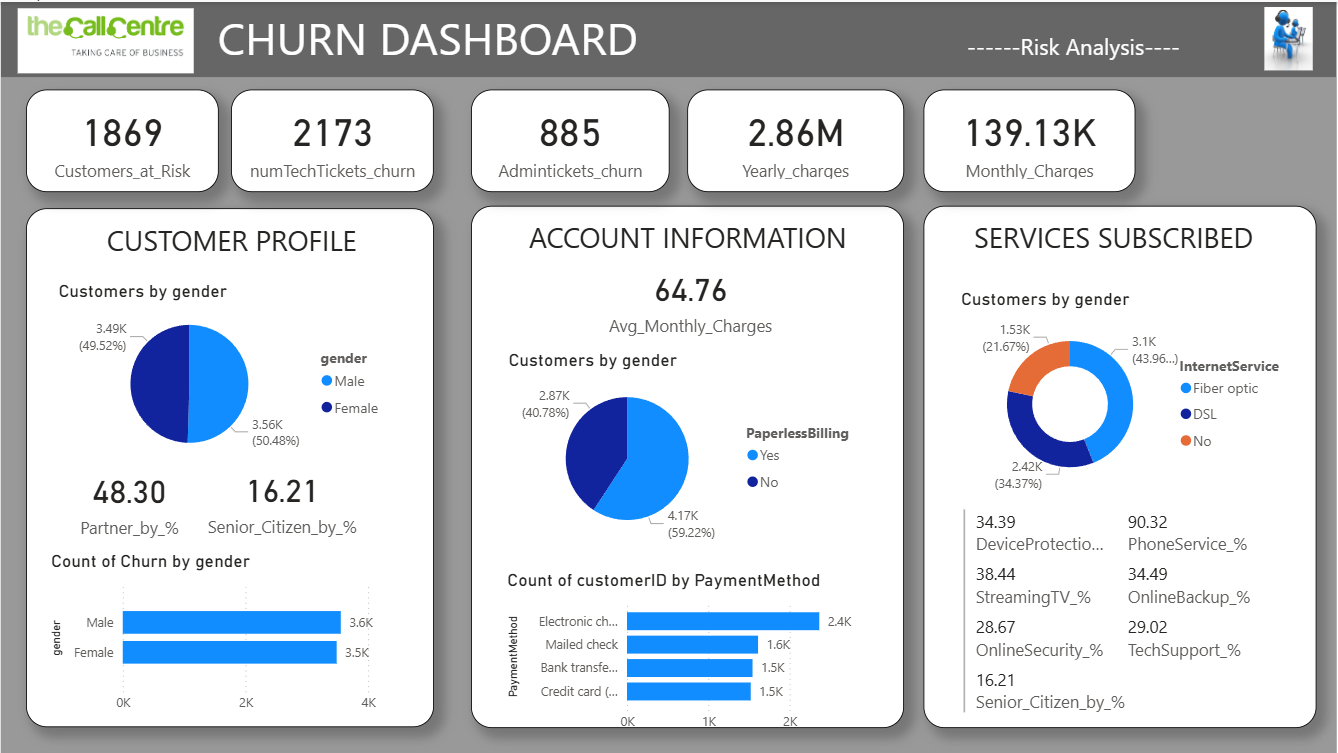

The dashboard page shown, as its layout file describes it:
{"tool":"powerbi","page":{"name":"Churn Analysis","canvas":[1280,720],"ordinal":1},"visuals":[{"type":"textbox","box":[0,0,1279.7,72.1],"z":0},{"type":"card","fields":{"Values":["01 Churn-Dataset.Avg_Monthly_Charges"]},"box":[566.3,245.9,189,79.4],"z":0,"group":"g2"},{"type":"card","fields":{"Values":["01 Churn-Dataset.Dependents_percent"]},"box":[57.6,435.9,131.3,86.6],"z":0,"group":"g1"},{"type":"multiRowCard","fields":{"Values":["01 Churn-Dataset.DeviceProtection_Percent","01 Churn-Dataset.PhoneService_Percent","01 Churn-Dataset.StreamingTV_Percent","01 Churn-Dataset.OnlineBackup_Percent","01 Churn-Dataset.OnlineSecurity_Percent","01 Churn-Dataset.TechSupport_Percent","01 Churn-Dataset.Senior_Citizen_Percent"]},"box":[918.7,482.4,313.1,204.9],"z":0,"group":"g3"},{"type":"image","box":[1188.8,0,90.9,70.7],"z":1000},{"type":"pieChart","title":"Customers by gender","fields":{"Category":["01 Churn-Dataset.gender"],"Y":["CountNonNull(01 Churn-Dataset.customerID)"]},"box":[50.1,267.7,326.1,178.9],"z":1000,"group":"g1"},{"type":"donutChart","title":"Customers by gender","fields":{"Y":["CountNonNull(01 Churn-Dataset.Churn)"],"Category":["01 Churn-Dataset.InternetService"]},"box":[915.8,274.6,326.1,203.4],"z":1000,"group":"g3"},{"type":"pieChart","title":"Customers by gender","fields":{"Category":["01 Churn-Dataset.PaperlessBilling"],"Y":["CountNonNull(01 Churn-Dataset.customerID)"]},"box":[481.2,332.9,350.6,190.4],"z":1000,"group":"g2"},{"type":"image","box":[10.1,1.4,181.8,72.1],"z":2000},{"type":"card","fields":{"Values":["01 Churn-Dataset.Senior_Citizen_Percent"]},"box":[184.3,433.6,170.2,90.9],"z":2000,"group":"g1"},{"type":"textbox","box":[24.5,197.7,391,497.8],"z":3000},{"type":"clusteredBarChart","fields":{"Y":["CountNonNull(01 Churn-Dataset.Churn)"],"Category":["01 Churn-Dataset.gender"]},"box":[43.3,526.8,330.4,164.5],"z":3000,"group":"g1"},{"type":"clusteredBarChart","fields":{"Y":["CountNonNull(01 Churn-Dataset.customerID)"],"Category":["01 Churn-Dataset.PaymentMethod"]},"box":[480.4,543.8,354.9,164.5],"z":3000,"group":"g2"},{"type":"group","id":"g1","title":"Group 1","box":[43.3,267.7,332.9,423.6],"z":4000},{"type":"textbox","box":[884.4,194.8,376.6,500.6],"z":5000},{"type":"textbox","box":[450.1,194.8,415.5,500.6],"z":6000},{"type":"group","id":"g2","title":"Group 1","box":[480.4,245.9,354.9,462.3],"z":7000},{"type":"group","id":"g3","title":"Group 1","box":[915.8,274.6,326.1,412.6],"z":8000},{"type":"card","fields":{"Values":["01 Churn-Dataset.Customers_atrisk"]},"box":[24.5,83.7,184.7,98.1],"z":8001},{"type":"card","fields":{"Values":["01 Churn-Dataset.numTechTickets_churn"]},"box":[220.7,83.7,194.8,98.1],"z":8002},{"type":"card","fields":{"Values":["01 Churn-Dataset.Admintickets_churn"]},"box":[450.1,83.7,190.4,98.1],"z":8003},{"type":"card","fields":{"Values":["01 Churn-Dataset.Monthly_Charges"]},"box":[884.4,83.7,203.4,98.1],"z":8004},{"type":"card","fields":{"Values":["01 Churn-Dataset.Total_charges"]},"box":[657.9,83.7,207.8,98.1],"z":8005}]}

Visuals, with their boxes in screenshot pixels (x1, y1, x2, y2), scaled from the page's 1280x720 canvas onto the 1338x753 screenshot:
textbox: l=0, t=0, r=1337, b=75
card - 01 Churn-Dataset.Avg_Monthly_Charges: l=592, t=257, r=790, b=340
card - 01 Churn-Dataset.Dependents_percent: l=60, t=456, r=197, b=546
multiRowCard - 01 Churn-Dataset.DeviceProtection_Percent x 01 Churn-Dataset.PhoneService_Percent: l=960, t=505, r=1288, b=719
image: l=1243, t=0, r=1337, b=74
"Customers by gender" pieChart: l=52, t=280, r=393, b=467
"Customers by gender" donutChart: l=957, t=287, r=1298, b=500
"Customers by gender" pieChart: l=503, t=348, r=869, b=547
image: l=11, t=1, r=201, b=77
card - 01 Churn-Dataset.Senior_Citizen_Percent: l=193, t=453, r=371, b=549
textbox: l=26, t=207, r=434, b=727
clusteredBarChart - CountNonNull(01 Churn-Dataset.Churn) x 01 Churn-Dataset.gender: l=45, t=551, r=391, b=723
clusteredBarChart - CountNonNull(01 Churn-Dataset.customerID) x 01 Churn-Dataset.PaymentMethod: l=502, t=569, r=873, b=741
"Group 1" group: l=45, t=280, r=393, b=723
textbox: l=924, t=204, r=1318, b=727
textbox: l=470, t=204, r=905, b=727
"Group 1" group: l=502, t=257, r=873, b=741
"Group 1" group: l=957, t=287, r=1298, b=719
card - 01 Churn-Dataset.Customers_atrisk: l=26, t=88, r=219, b=190
card - 01 Churn-Dataset.numTechTickets_churn: l=231, t=88, r=434, b=190
card - 01 Churn-Dataset.Admintickets_churn: l=470, t=88, r=670, b=190
card - 01 Churn-Dataset.Monthly_Charges: l=924, t=88, r=1137, b=190
card - 01 Churn-Dataset.Total_charges: l=688, t=88, r=905, b=190
